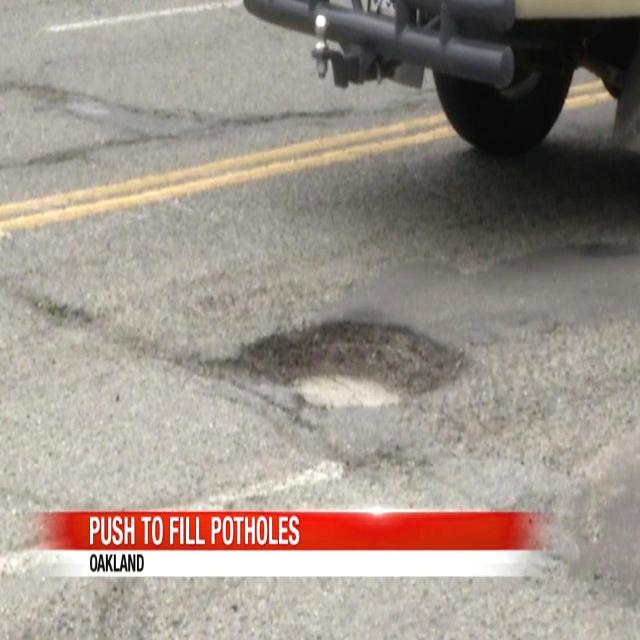pothole: (251, 317, 463, 419)
